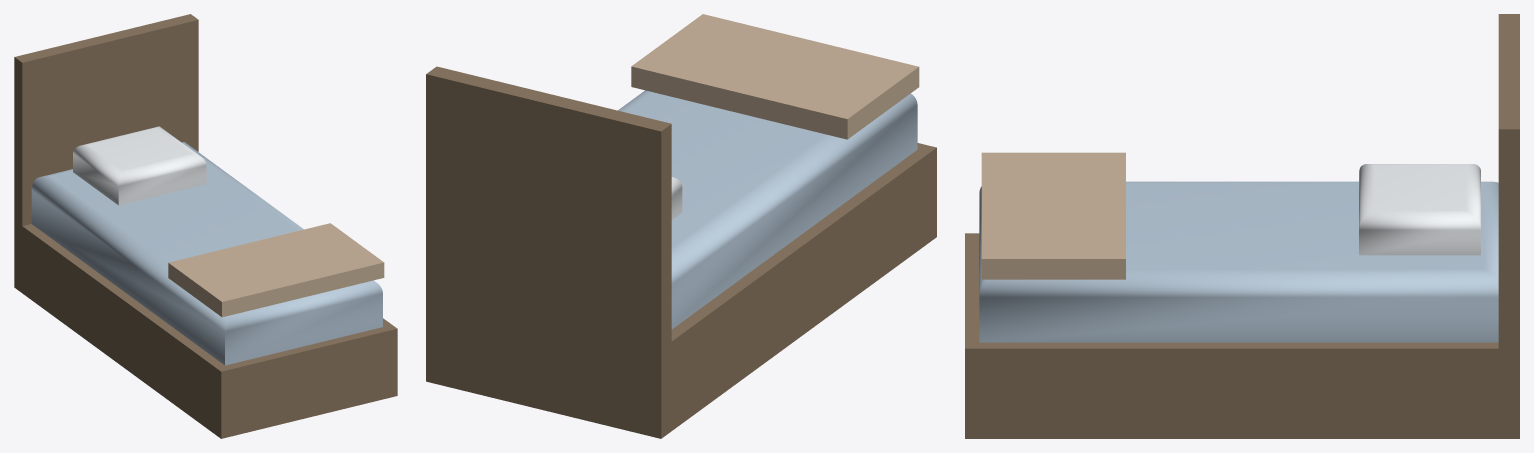
Rendered from bed_single.glb.
3 renders of one model, left to right at view 1: azimuth 30°, elevation 25°; view 2: azimuth 150°, elevation 25°; view 3: azimuth 270°, elevation 25°, orthographic. The views are drawn at different scales.
Parts seen in each view (by area): view 1: mattress, frame, headboard, blanket, pillow; view 2: headboard, frame, mattress, blanket; view 3: mattress, frame, blanket, pillow, headboard.
Boxes of the visible parts, x1,y1,x2,y2 form: mattress: (31,142,382,365); frame: (14,220,397,438); headboard: (14,14,198,292); blanket: (168,223,384,317); pillow: (73,126,206,205); headboard: (426,66,671,438); frame: (426,143,936,438); mattress: (618,90,917,329); blanket: (631,14,919,139); mattress: (979,181,1498,342); frame: (965,233,1519,438); blanket: (981,152,1125,279); pillow: (1359,164,1480,255); headboard: (1498,14,1519,438).
Bounding box in the file's own units: 0.9754 × 1.22 × 1.98.
